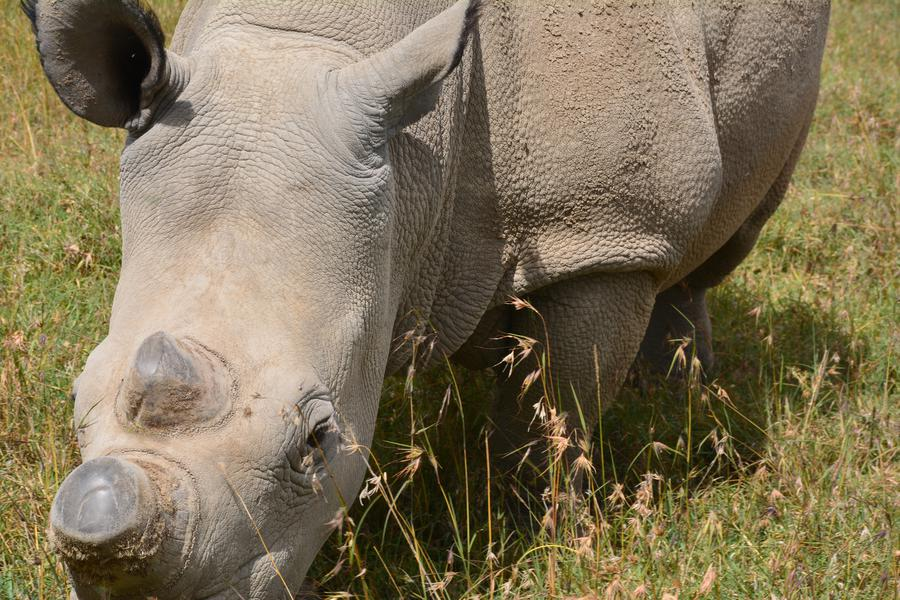rhino: (36, 14, 846, 582)
